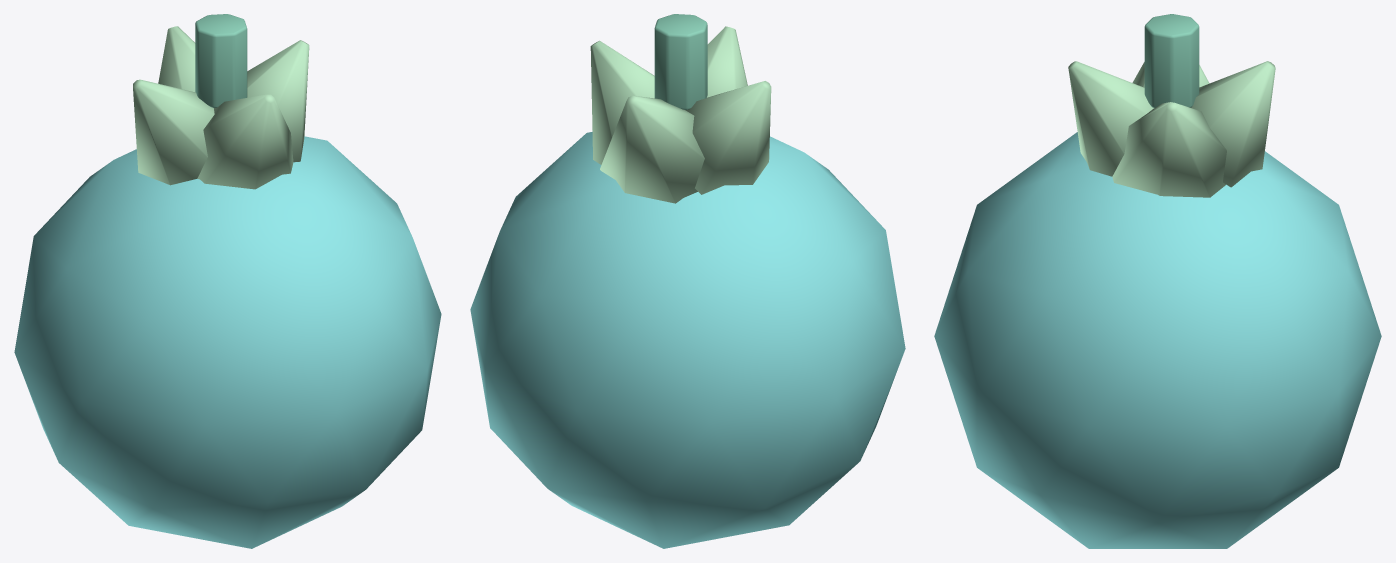
File: ice_berry_projectile.glb
3 renders of one model, left to right at view 1: azimuth 30°, elevation 25°; view 2: azimuth 150°, elevation 25°; view 3: azimuth 270°, elevation 25°, orthographic. The views are drawn at different scales.
Visible parts, largest first — view 1: BerryBody, BerryLeaf_3, BerryLeaf_2, BerryStem, BerryLeaf_0, BerryLeaf_1; view 2: BerryBody, BerryLeaf_1, BerryLeaf_2, BerryStem, BerryLeaf_0, BerryLeaf_3; view 3: BerryBody, BerryLeaf_0, BerryLeaf_1, BerryLeaf_3, BerryStem.
Part boxes in pixels (x1,y1,x2,y2): BerryBody: (14,136,441,548); BerryLeaf_3: (197,94,293,189); BerryLeaf_2: (133,79,214,185); BerryStem: (195,14,247,107); BerryLeaf_0: (247,40,309,162); BerryLeaf_1: (158,26,195,91); BerryBody: (470,131,905,548); BerryLeaf_1: (600,95,704,203); BerryLeaf_2: (685,81,771,194); BerryStem: (654,14,707,109); BerryLeaf_0: (590,40,654,164); BerryLeaf_3: (707,26,747,97); BerryBody: (934,132,1381,548); BerryLeaf_0: (1112,102,1226,197); BerryLeaf_1: (1190,61,1275,187); BerryLeaf_3: (1068,61,1153,176); BerryStem: (1144,14,1199,107).
Bounding box in the file's own units: 1.52 × 2.03 × 1.6.
